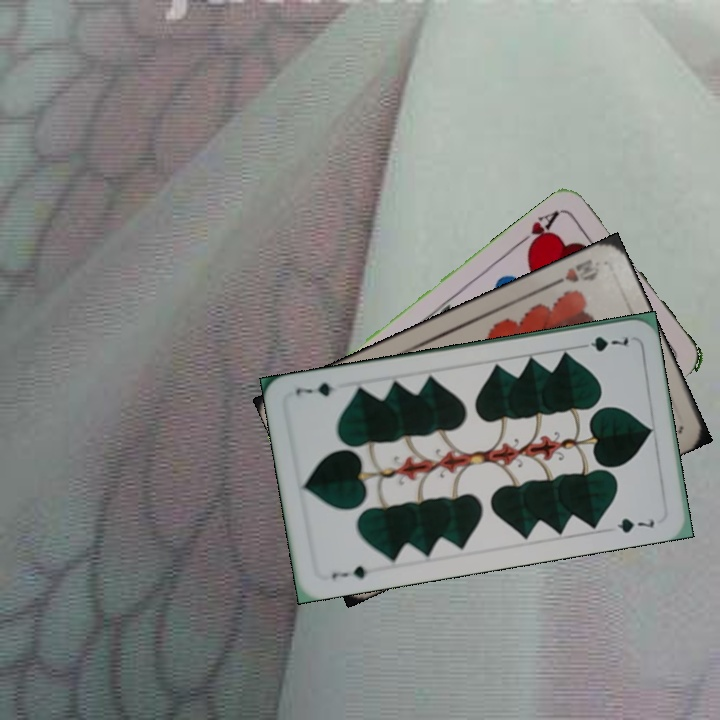G7: (574, 332, 631, 354), (328, 562, 378, 582)
H10: (546, 254, 603, 290)
HA: (513, 206, 563, 255)
